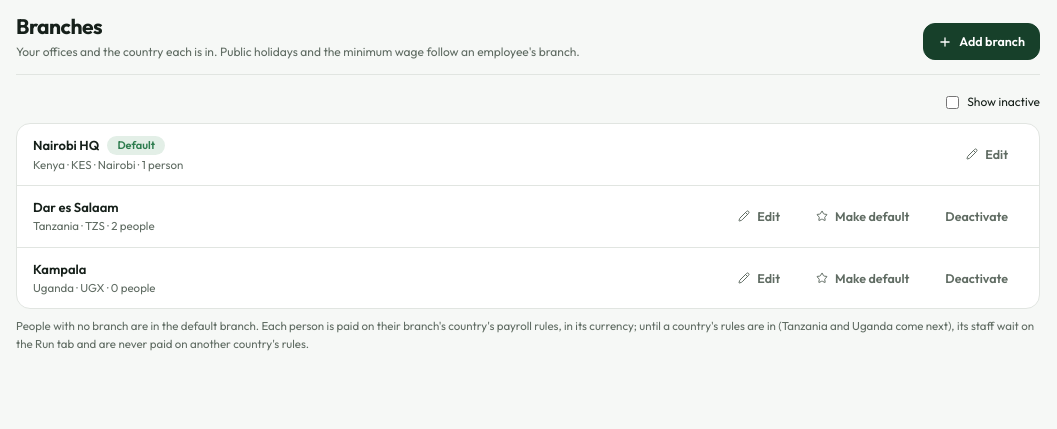
Test: Branches page › lists the active branches, the default first, with country, currency and headcount
Check: the list item "Nairobi HQ Default Kenya · KES · Nairobi · 1 person Edit" is shown, box [17, 124, 1039, 185]
Check: the list item that starts with "Dar es Salaam" shows "Tanzania · TZS · 2 people", box [33, 218, 155, 233]
Click the checkbox labelled "Show inactive" at x=953, y=102, box [946, 96, 959, 108]
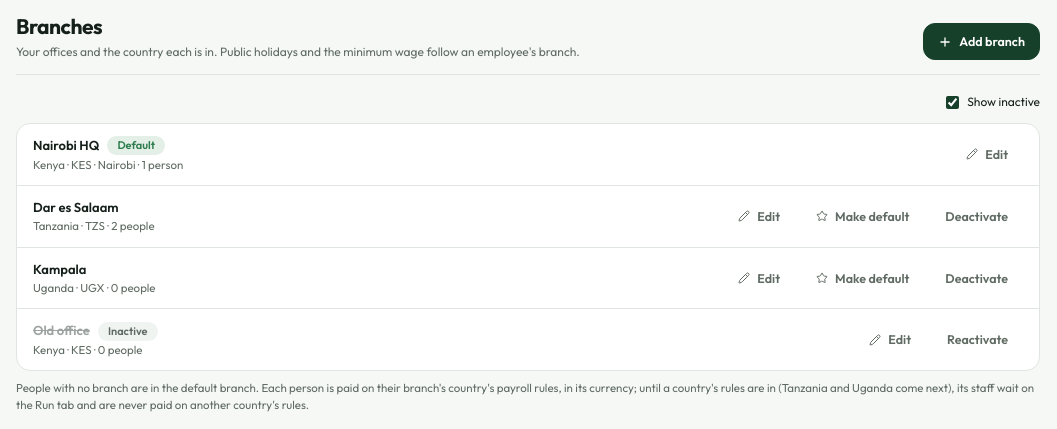
Check: the text "Old office" is shown, box [33, 321, 90, 341]
